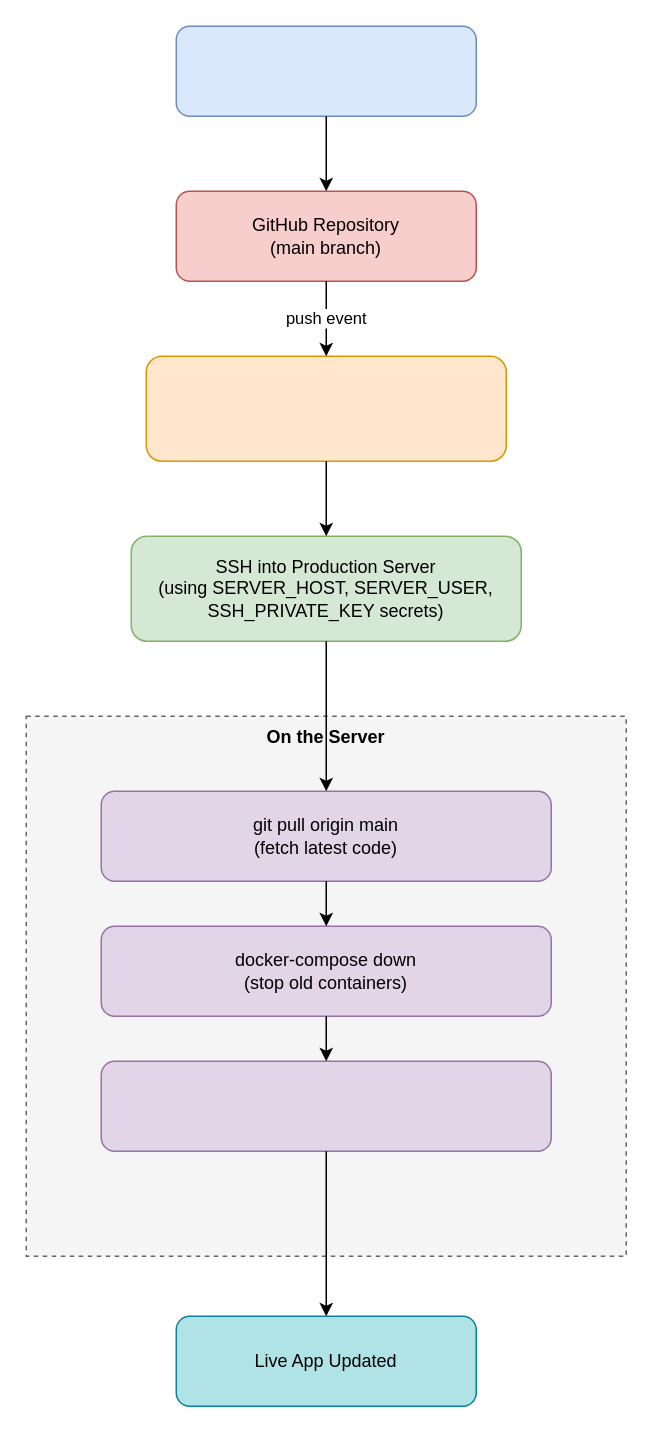
Image size: 653x1433. Some labels were removed from this diagram. Each missing label, with the centre of its shape:
"Developer (git push origin main)" goes at (325,70).
"docker-compose up -d --build (rebuild & start containers)" goes at (325,1105).
"GitHub Actions Workflow Triggered (.github/workflows/deploy.yml)" goes at (325,408).
